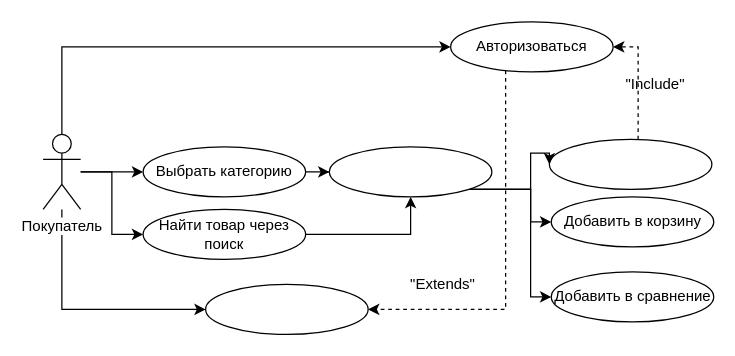
Image size: 735x356. Some labels were removed from this diagram. Each missing label, with the centre of its shape:
"Выбрать товар" belongs at (410,171).
"Зарегистрироваться" belongs at (286,308).
"Отставить отзыв" belongs at (630,163).
